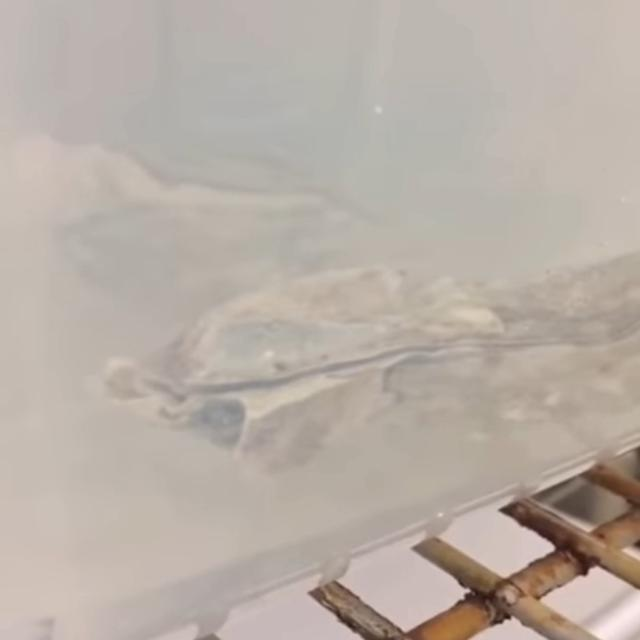Oyster-Closed: (95, 251, 640, 471)
Oyster-Indeterminate: (36, 121, 346, 236)
